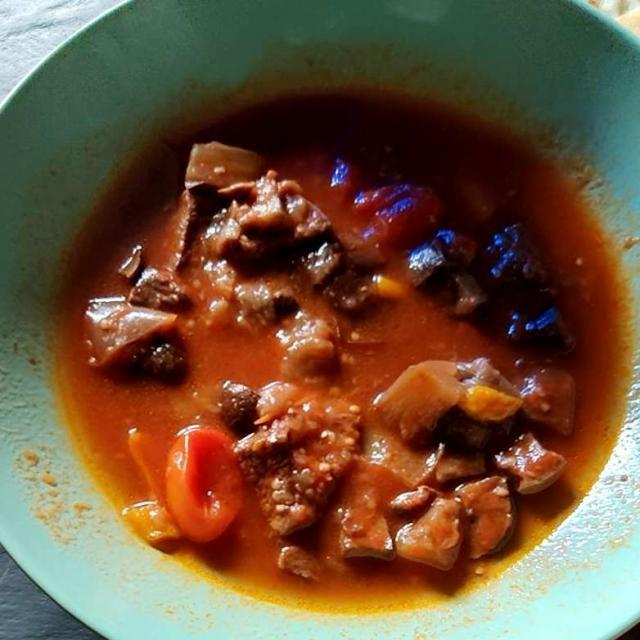mixed-vegetables: (132, 316, 514, 570)
